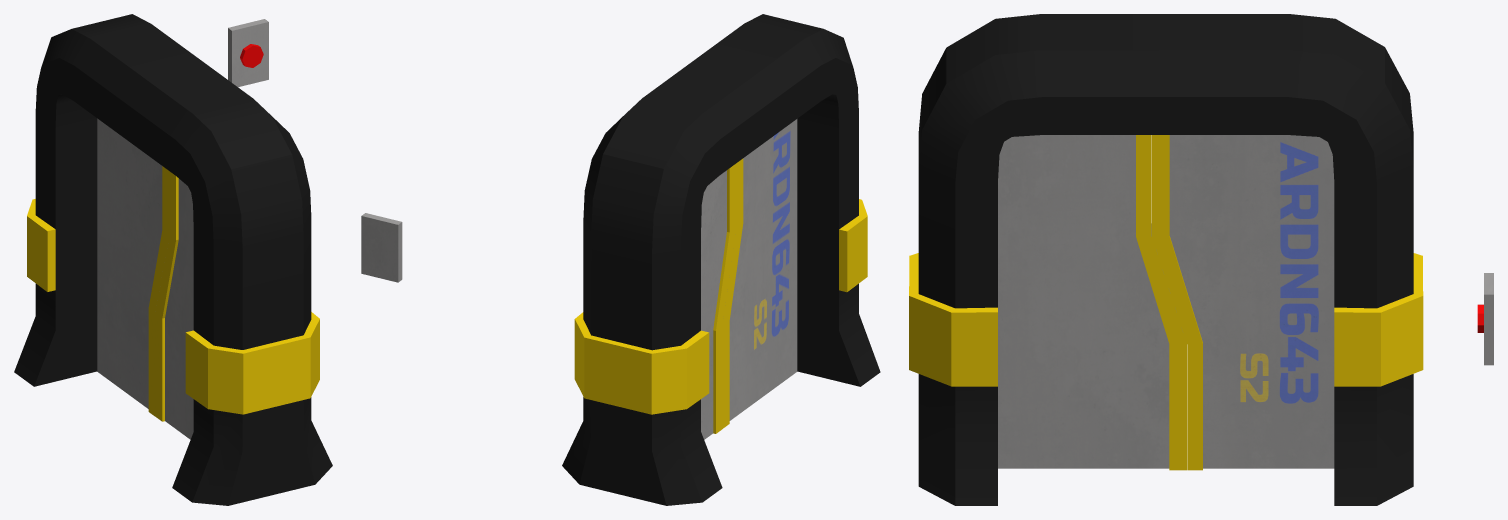
The model's file is door.fbx.
The picture shows the model from 3 angles, left to right: view 1: azimuth 30°, elevation 25°; view 2: azimuth 150°, elevation 25°; view 3: azimuth 270°, elevation 25°; orthographic projection. The views are drawn at different scales.
Visible parts, largest first — view 1: pCube7, pCube2, pCube1, pCube8, pCylinder1; view 2: pCube7, pCube1, pCube2, pCube8; view 3: pCube7, pCube1, pCube2, pCube8.
Boxes of the visible parts, <box> form: pCube7: <box>14,14,332,505</box>; pCube2: <box>97,118,169,416</box>; pCube1: <box>155,171,193,439</box>; pCube8: <box>228,19,268,87</box>; pCylinder1: <box>240,44,263,67</box>; pCube7: <box>562,14,880,505</box>; pCube1: <box>722,119,797,428</box>; pCube2: <box>701,163,736,439</box>; pCube8: <box>361,213,402,282</box>; pCube7: <box>909,14,1423,505</box>; pCube1: <box>998,135,1186,470</box>; pCube2: <box>1152,135,1334,470</box>; pCube8: <box>1484,273,1493,365</box>.
Size of the model in its own units: 11.35 by 12.92 by 15.93.
